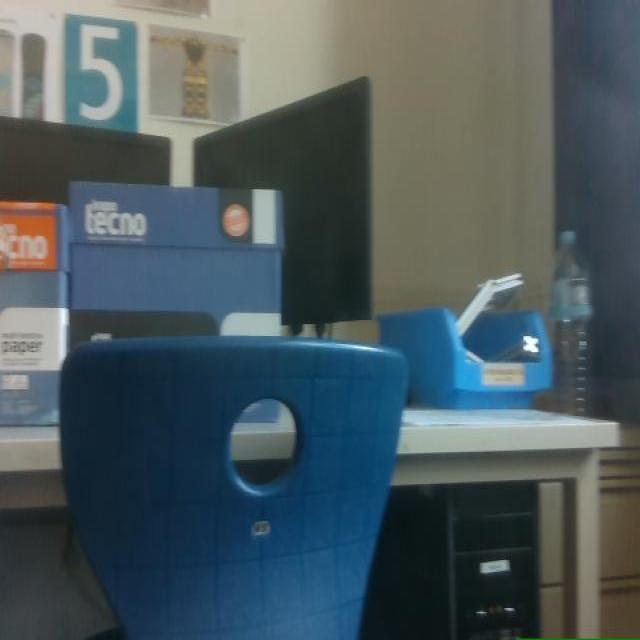objects: (61, 338, 406, 639)
